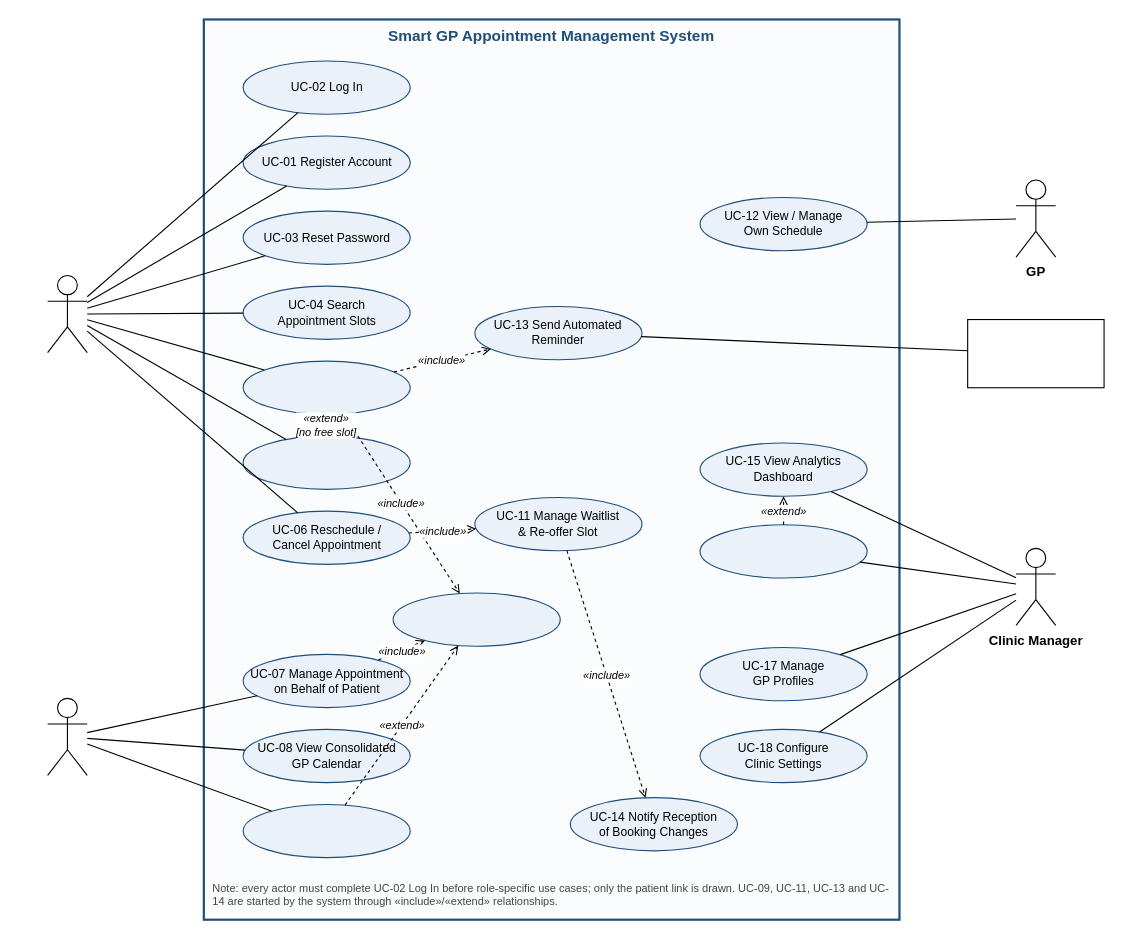
Image size: 1124x946. Some labels were removed from this diagram. The centre of each missing label's shape, as x and y in pixels:
"Patient" goes at pixel 67 313.
"Reception Staff" goes at pixel 67 736.
"UC-05 Book Appointment" goes at pixel 326 387.
"UC-09 Auto-Allocate GP" goes at pixel 476 619.
"UC-10 Override GP Allocation" goes at pixel 326 830.
"UC-16 Generate & Export Reports" goes at pixel 783 551.
"UC-19 Join Waitlist" goes at pixel 326 462.
"«system» SMS / Email Gateway" goes at pixel 1035 353.
